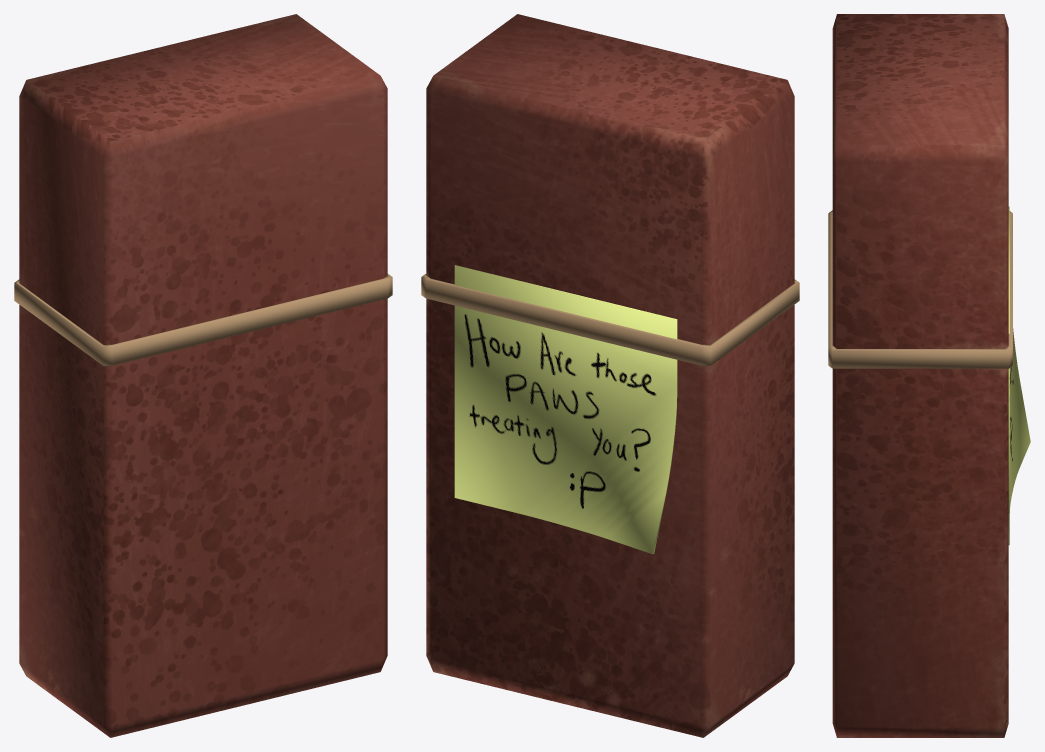
Rendered from BrickAsset2.fbx.
3 views of the same model, side by side, from view 1: azimuth 30°, elevation 25°; view 2: azimuth 150°, elevation 25°; view 3: azimuth 270°, elevation 25° (orthographic).
Parts seen in each view (by area): view 1: Brick; view 2: Brick; view 3: Brick.
Boxes of the visible parts, x1=… form: Brick: x1=14, y1=14, x2=392, y2=737; Brick: x1=421, y1=14, x2=799, y2=737; Brick: x1=828, y1=14, x2=1030, y2=737.
Bounding box in the file's own units: 14.33 × 28.23 × 8.74.
1 material, 1 textured.
